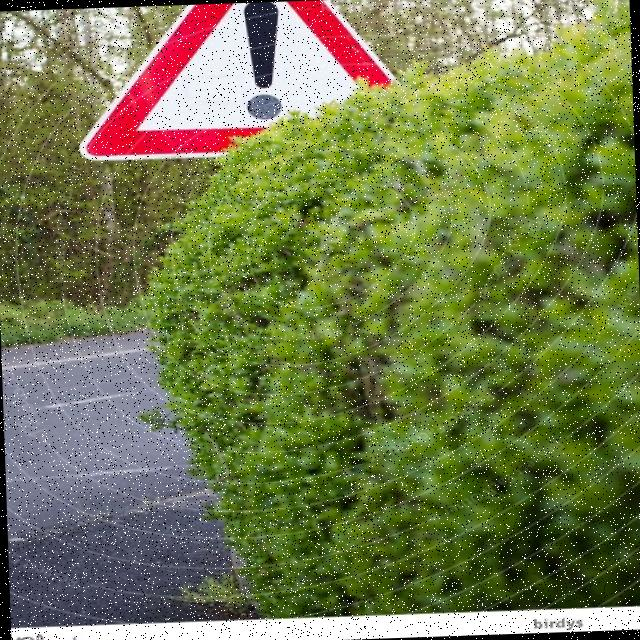warning: (62, 0, 429, 177)
